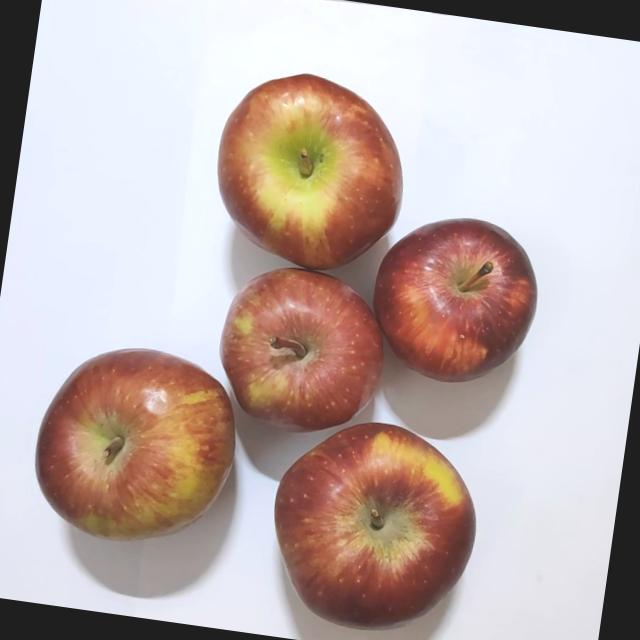apple: (21, 322, 257, 570), (253, 404, 500, 640), (194, 67, 423, 292), (207, 258, 398, 446), (364, 209, 546, 397)
